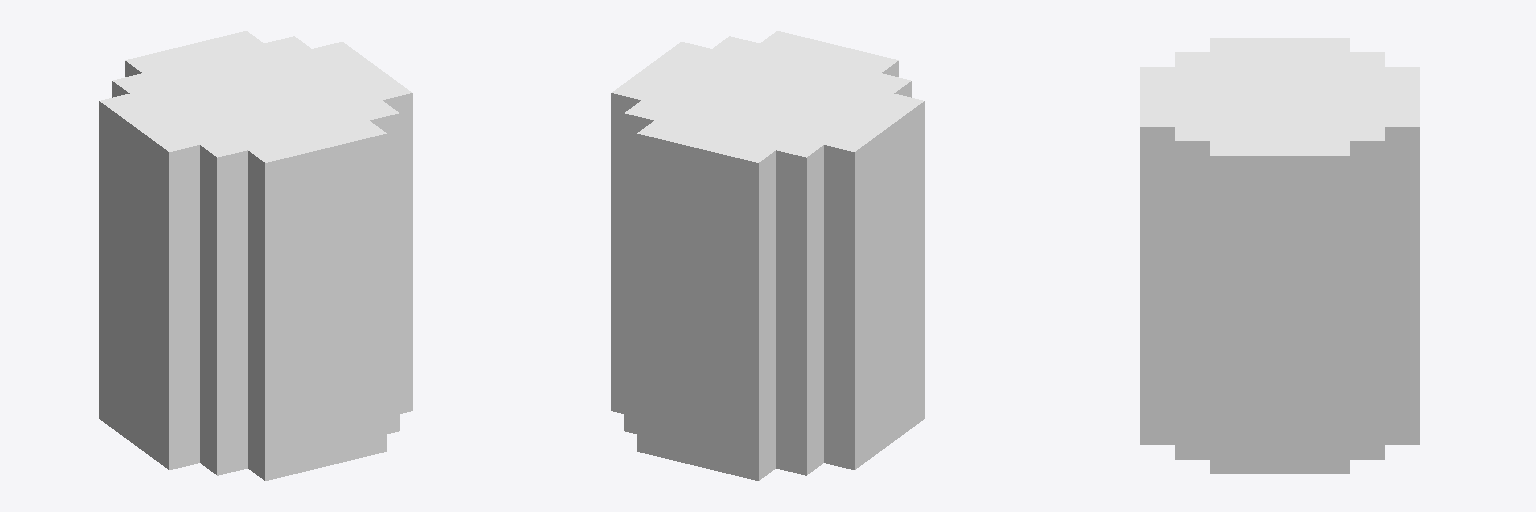
Rendered from OldArt3.obj.
The picture shows the model from 3 angles: view 1: azimuth 30°, elevation 25°; view 2: azimuth 150°, elevation 25°; view 3: azimuth 270°, elevation 25°; orthographic projection.
Parts seen in each view (by area): view 1: object 1; view 2: object 1; view 3: object 1.
Boxes of the visible parts, x1,y1,x2,y2 form: object 1: [99, 31, 412, 480]; object 1: [611, 31, 924, 480]; object 1: [1140, 38, 1419, 473].
Size of the model in its own units: 0.8 by 1 by 0.8.